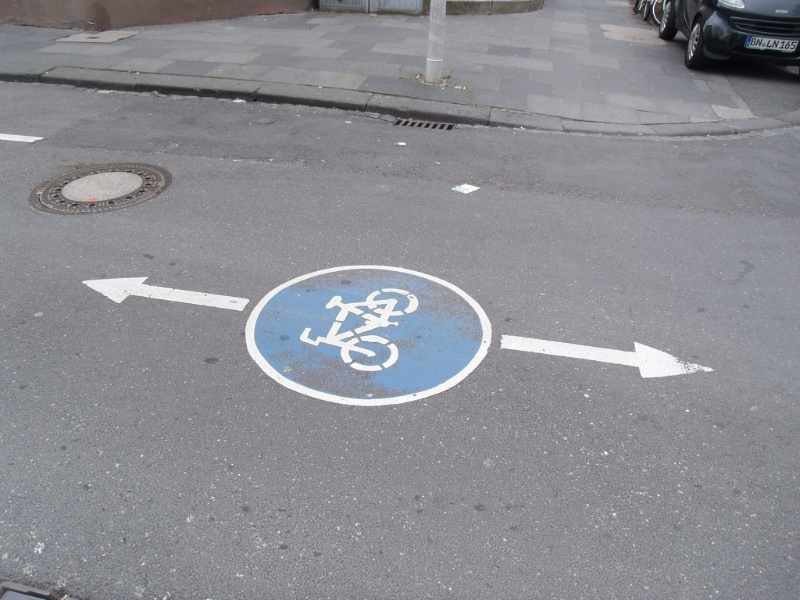left_direction: (80, 275, 251, 315)
right_direction: (499, 330, 716, 381)
